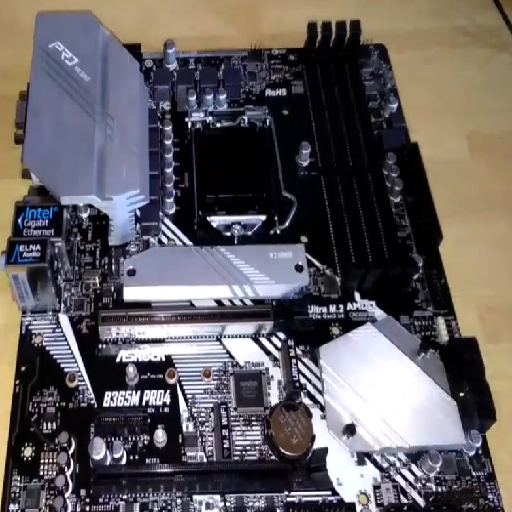CPU: (173, 98, 296, 239)
GPU: (82, 453, 335, 496), (98, 299, 328, 340)
MOTHERBOARD: (8, 8, 505, 512)
RAM: (286, 16, 416, 310)
SSD: (268, 331, 309, 402), (199, 395, 238, 463)
